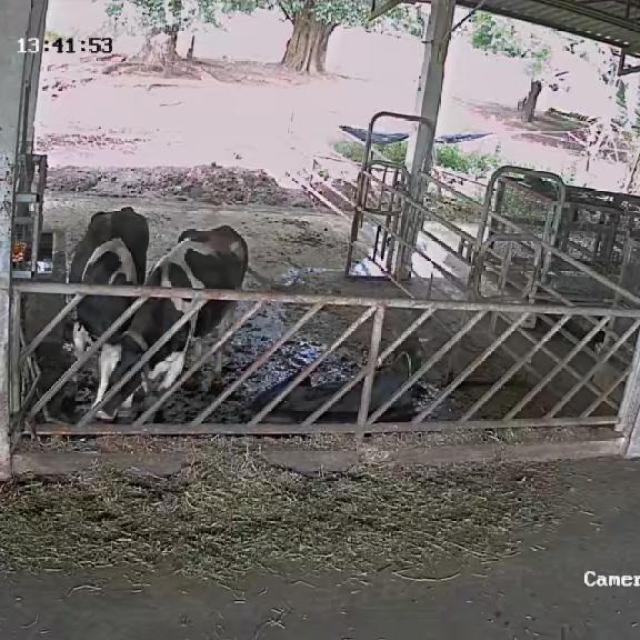lying down: (258, 334, 421, 424)
standing: (95, 224, 251, 424), (64, 205, 156, 409)
